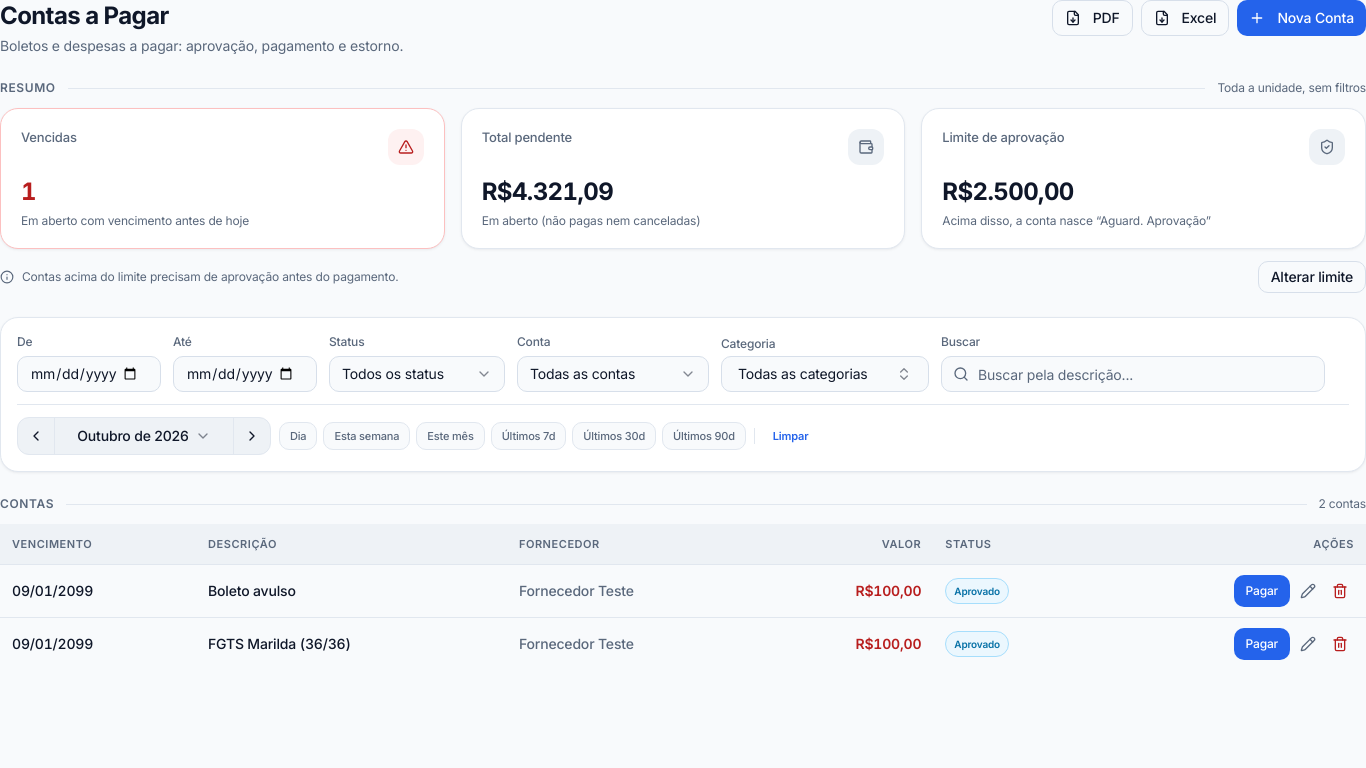
Contas a Pagar (V2) › conta sem série (ou a última parcela) salva direto, sem perguntar
Step 1. Click the button named "Editar Boleto avulso" → {"x": 1308, "y": 590}, box [1294, 576, 1322, 604]
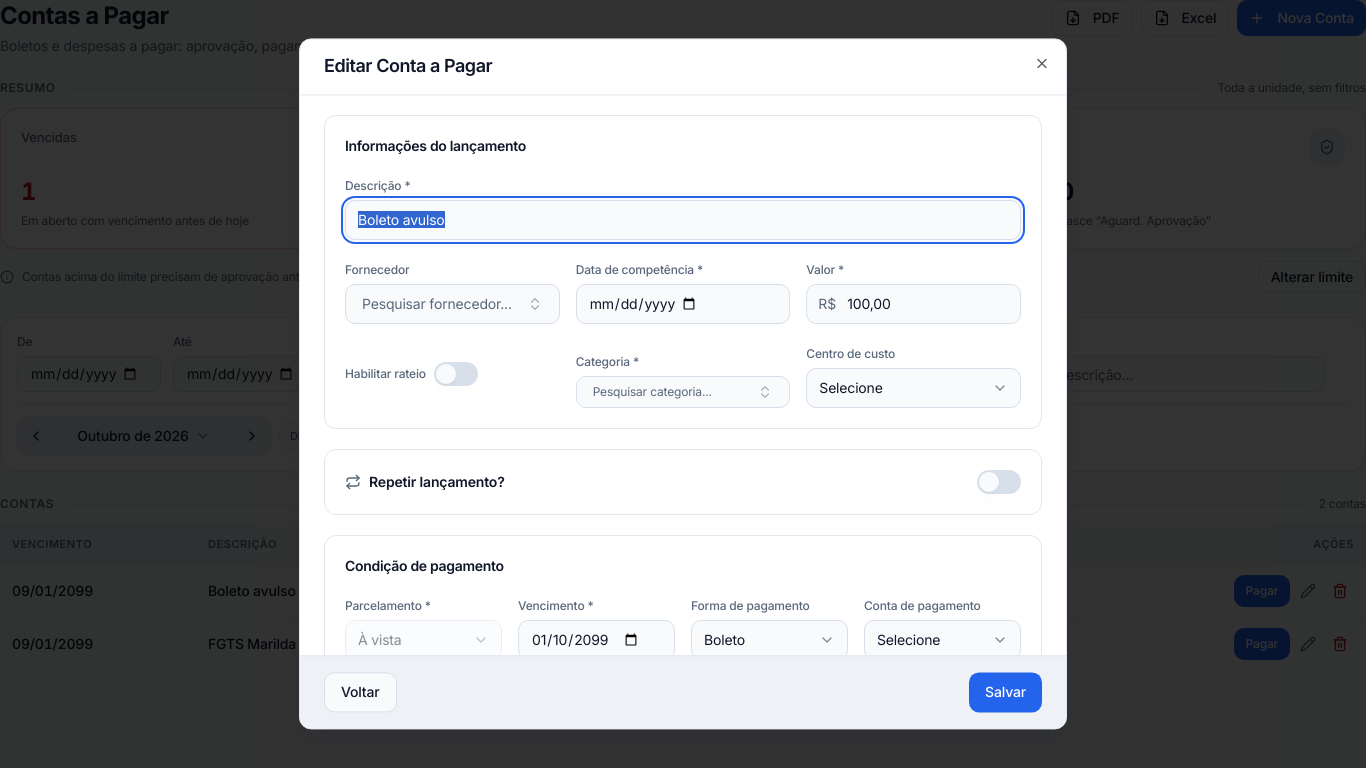
Step 2. Click the button "Salvar" → {"x": 1006, "y": 693}, box [969, 673, 1042, 713]
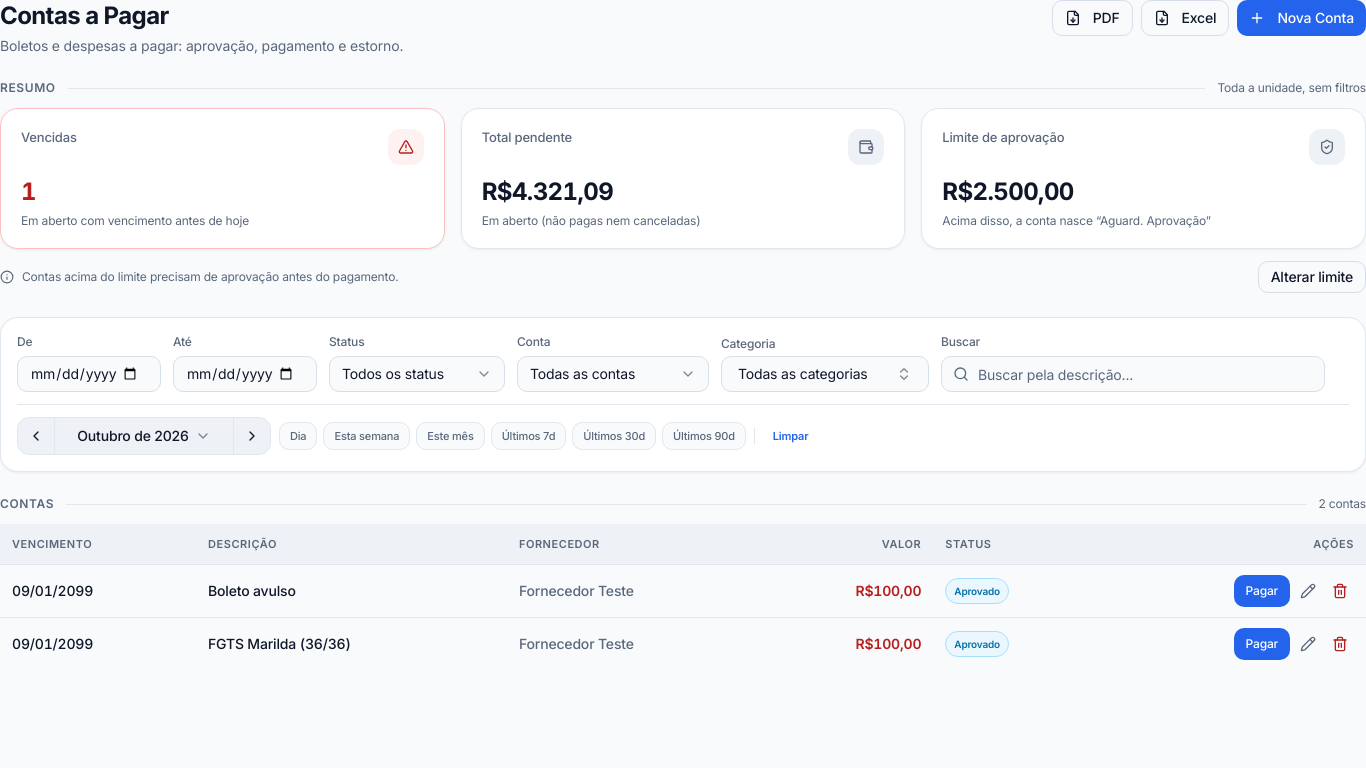
Result: the heading "Editar Conta a Pagar" is gone
Step 3. Click the button named "Editar FGTS Marilda (36/36)" → {"x": 1308, "y": 644}, box [1294, 630, 1322, 658]
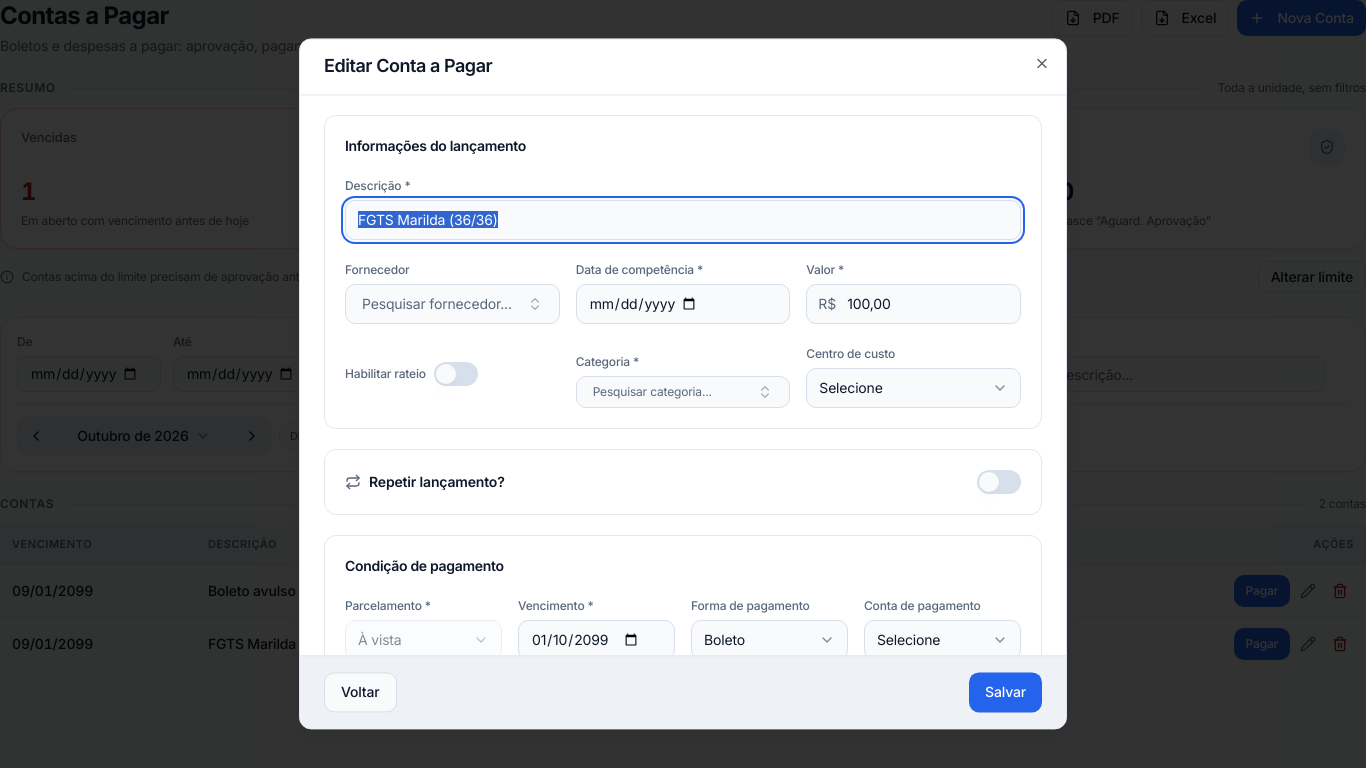
Step 4. Click the button "Salvar" → {"x": 1006, "y": 693}, box [969, 673, 1042, 713]
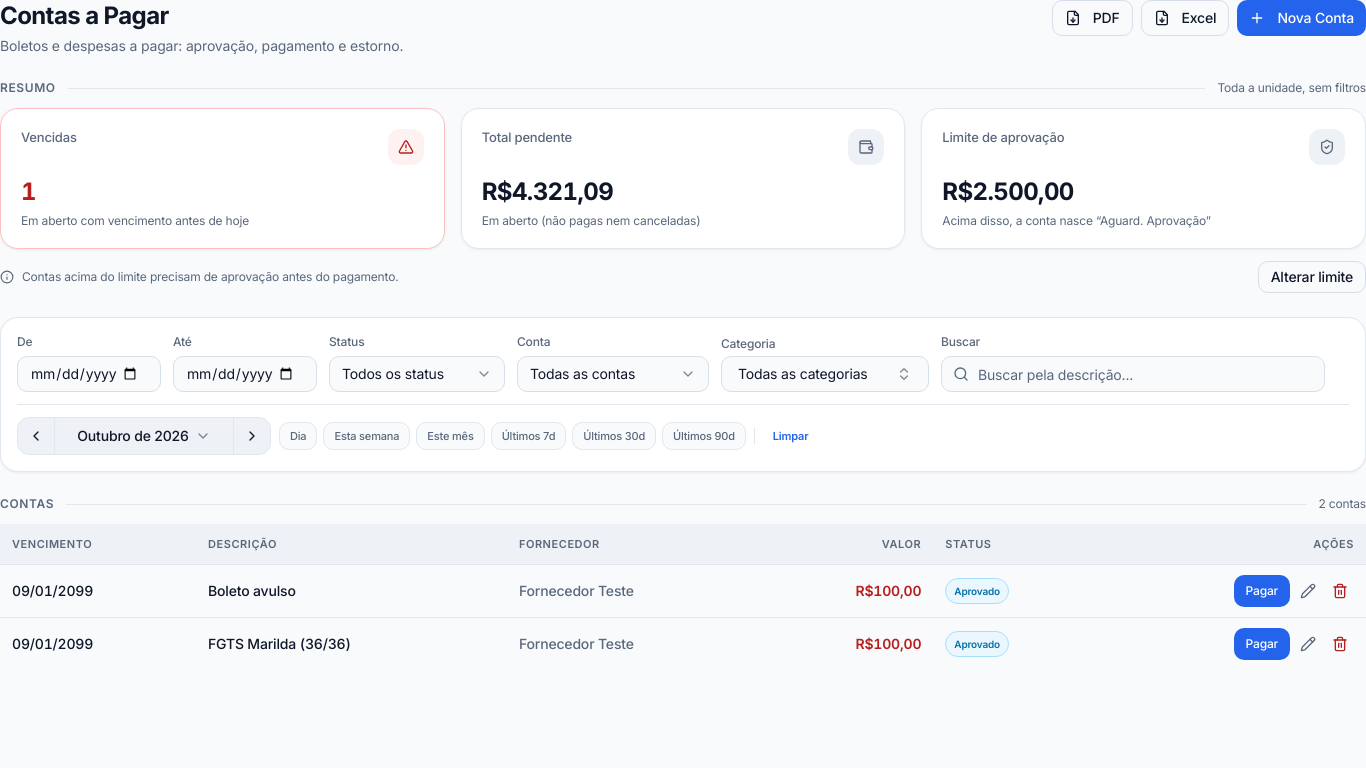
Result: the heading "Editar Conta a Pagar" is gone
Result: the dialog is gone
